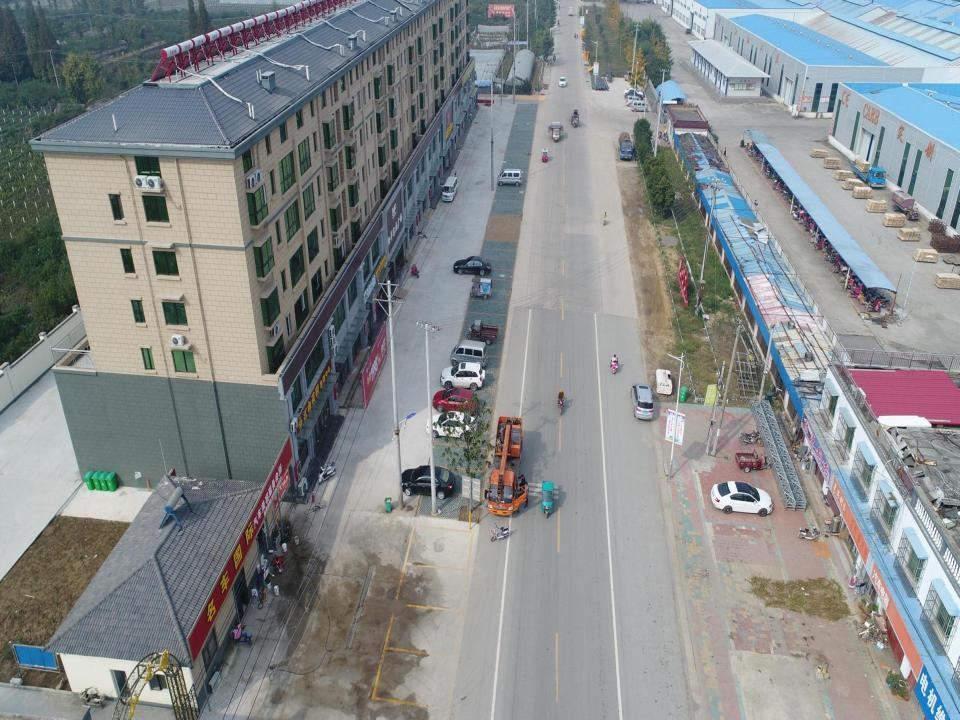car: (710, 481, 774, 516), (398, 464, 455, 499), (424, 409, 479, 443), (432, 386, 480, 417), (438, 361, 484, 392), (630, 380, 656, 423), (452, 255, 492, 275), (623, 91, 644, 102), (623, 88, 644, 99), (623, 70, 638, 84), (625, 95, 642, 107), (558, 76, 568, 88)
truck: (851, 157, 888, 190), (618, 132, 634, 160)
van: (449, 338, 487, 368), (498, 169, 523, 188), (442, 176, 460, 202), (630, 99, 649, 113)
